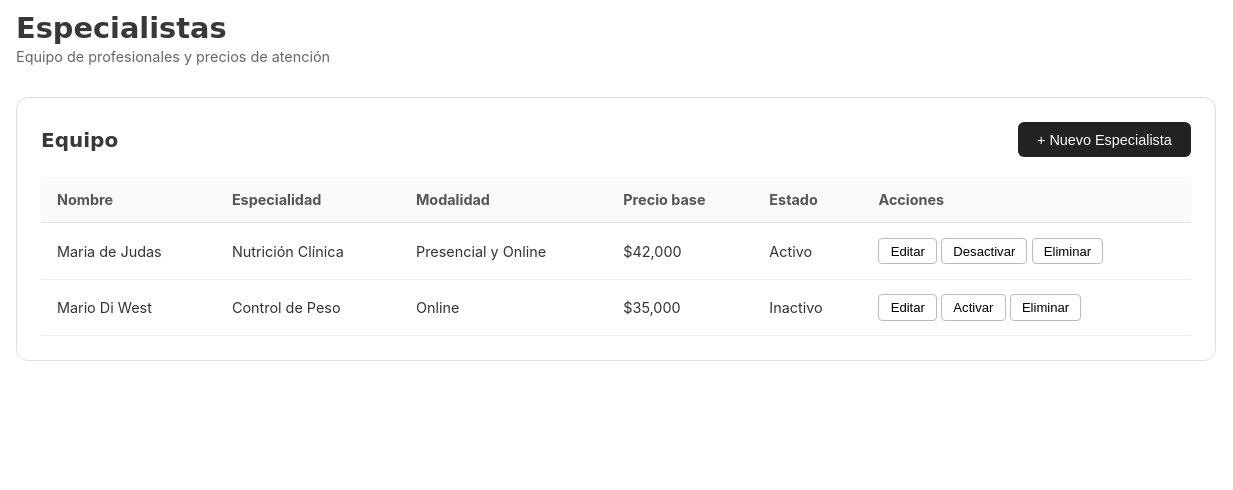
Especialistas › crea un especialista nuevo con POST
Expected: the text "Maria de Judas" is shown, [41,223,216,279]
Step 1. Click the button "+ Nuevo Especialista" → (1104, 140), box [1018,122,1191,157]
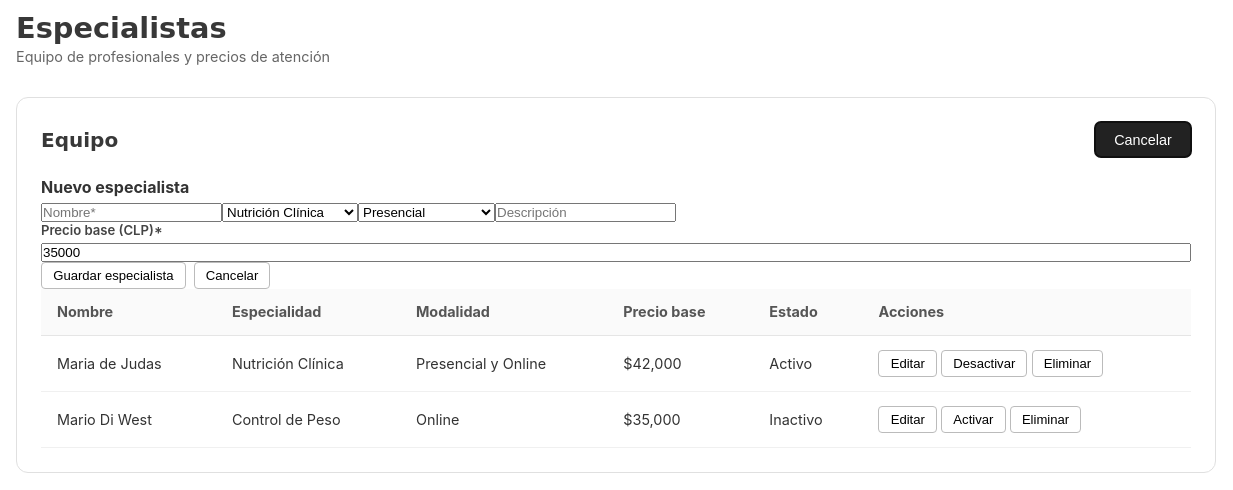
Step 2. Type "Dra. Nueva" into the field with placeholder "Nombre*" → (132, 212), box [41,203,222,222]
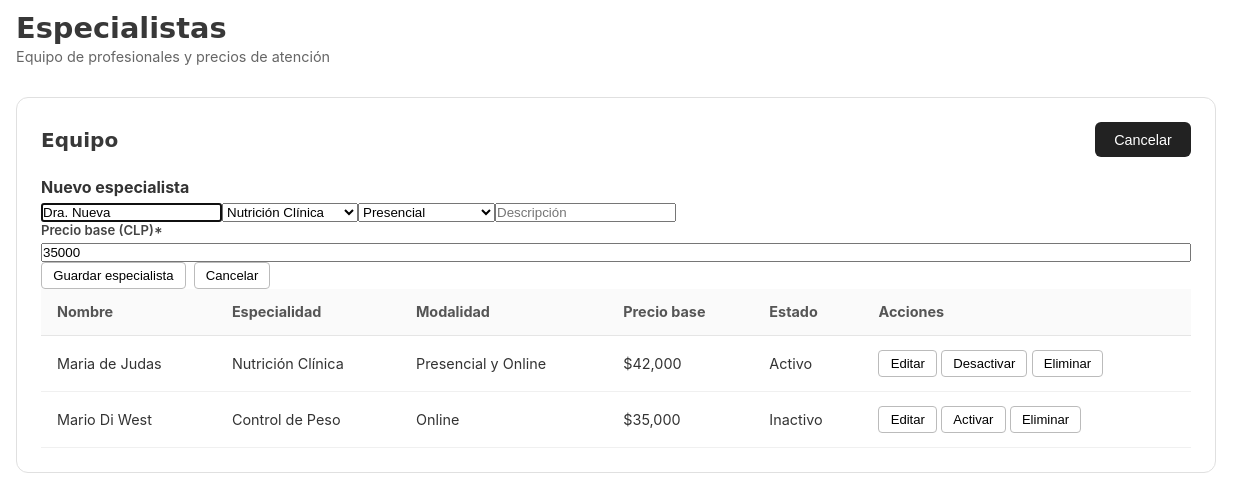
Step 3. Click the button "Guardar especialista" → (113, 276), box [41,262,186,289]
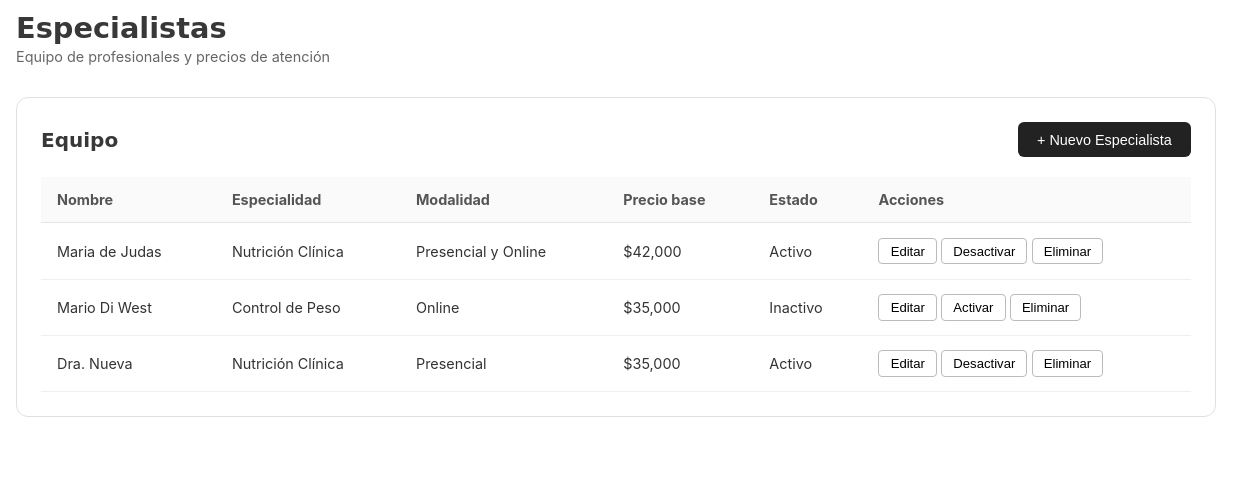
Expected: the text "Dra. Nueva" is shown, [41,336,216,392]
